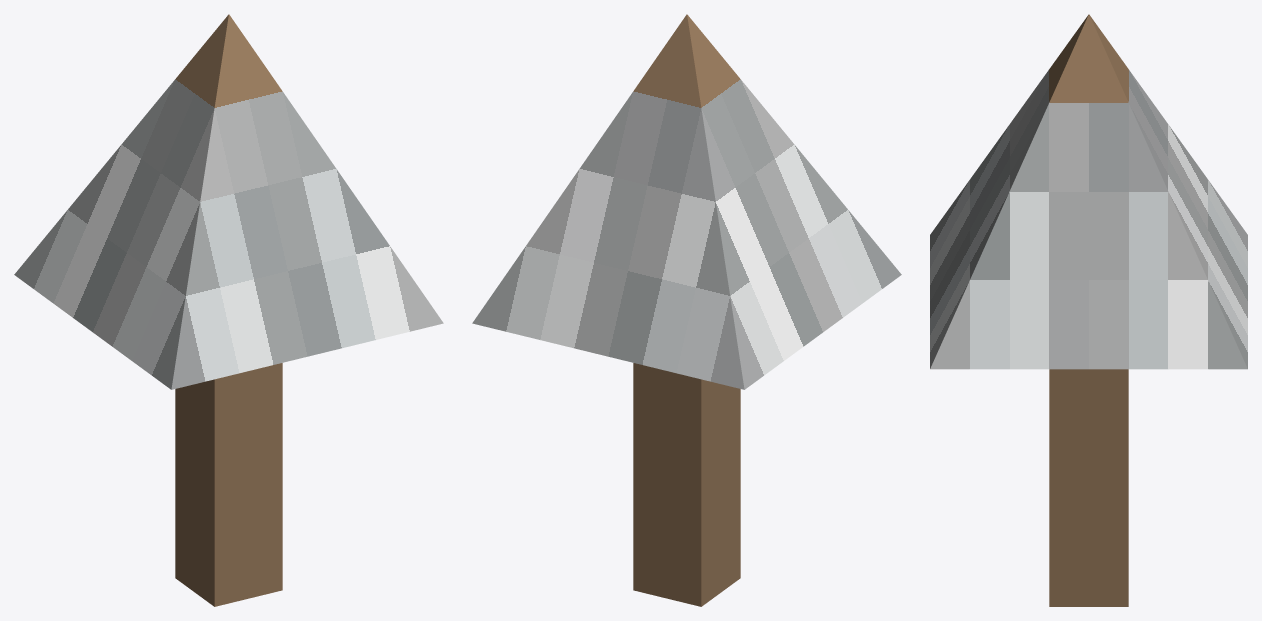
The model's file is white_umbrella_close_3d.obj.
3 renders of one model, left to right at view 1: azimuth 30°, elevation 25°; view 2: azimuth 150°, elevation 25°; view 3: azimuth 270°, elevation 25°, orthographic.
Visible parts, largest first — view 1: Cube; view 2: Cube; view 3: Cube.
Part boxes in pixels (x1,y1,x2,y2): Cube: [14, 14, 443, 606]; Cube: [472, 14, 901, 606]; Cube: [930, 14, 1247, 606].
Bounding box in the file's own units: 0.5 × 1 × 0.5.
